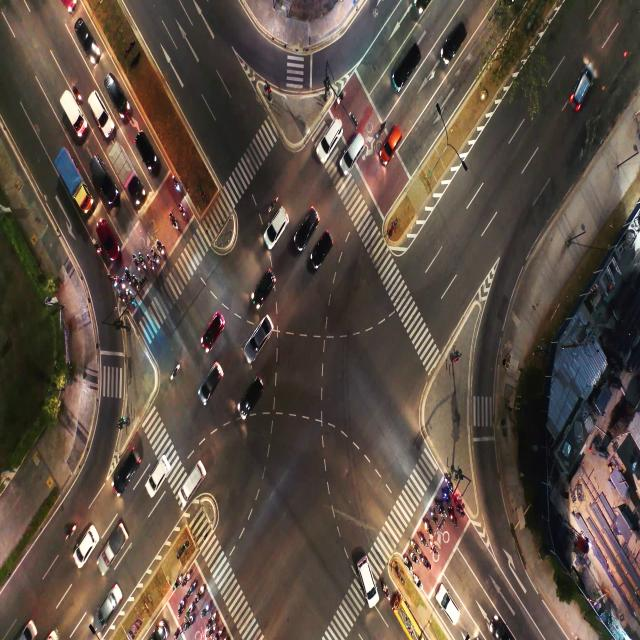bus: (398, 602, 418, 639)
car: (439, 584, 463, 621), (115, 449, 136, 490), (358, 560, 376, 604), (400, 45, 418, 88), (572, 70, 590, 111), (74, 537, 92, 573), (76, 27, 95, 58), (447, 27, 465, 59), (202, 368, 223, 395), (93, 94, 109, 128), (184, 464, 202, 494), (490, 611, 508, 638), (272, 211, 288, 241), (142, 135, 157, 164), (100, 224, 115, 253), (314, 234, 328, 264), (249, 326, 267, 349), (244, 380, 262, 402), (104, 592, 117, 621), (349, 135, 362, 162), (326, 119, 338, 148), (154, 460, 168, 483), (387, 123, 398, 152), (96, 165, 108, 191), (301, 217, 315, 239), (259, 273, 270, 300), (114, 84, 124, 110), (210, 316, 221, 339)
motorcycle: (172, 177, 182, 191), (68, 524, 76, 540), (171, 364, 179, 379), (376, 125, 385, 138), (174, 576, 182, 590), (209, 624, 217, 638), (269, 198, 276, 212), (110, 272, 117, 286), (416, 574, 422, 590), (188, 616, 195, 629), (210, 612, 216, 626), (170, 215, 177, 226), (204, 604, 211, 615), (424, 555, 429, 570), (458, 503, 464, 515), (180, 204, 186, 216), (158, 242, 164, 254), (94, 241, 100, 253), (126, 289, 132, 301), (190, 583, 196, 595), (175, 626, 181, 638), (432, 542, 439, 552), (384, 584, 389, 598), (337, 93, 344, 103), (135, 257, 140, 271), (407, 558, 412, 571), (120, 276, 125, 289), (188, 603, 193, 616), (179, 599, 183, 615), (414, 554, 420, 564), (141, 258, 146, 270), (134, 279, 140, 289), (219, 627, 225, 637), (200, 585, 204, 599), (438, 505, 443, 516), (432, 514, 438, 523), (420, 534, 426, 543), (450, 511, 454, 524), (154, 250, 158, 263), (127, 271, 131, 284), (413, 543, 418, 553), (149, 258, 154, 268), (185, 574, 190, 584), (444, 494, 448, 506), (447, 481, 452, 490), (426, 520, 430, 531), (120, 293, 124, 304)
truck: (113, 153, 132, 185), (106, 532, 122, 563), (68, 100, 83, 125), (64, 170, 80, 192)
